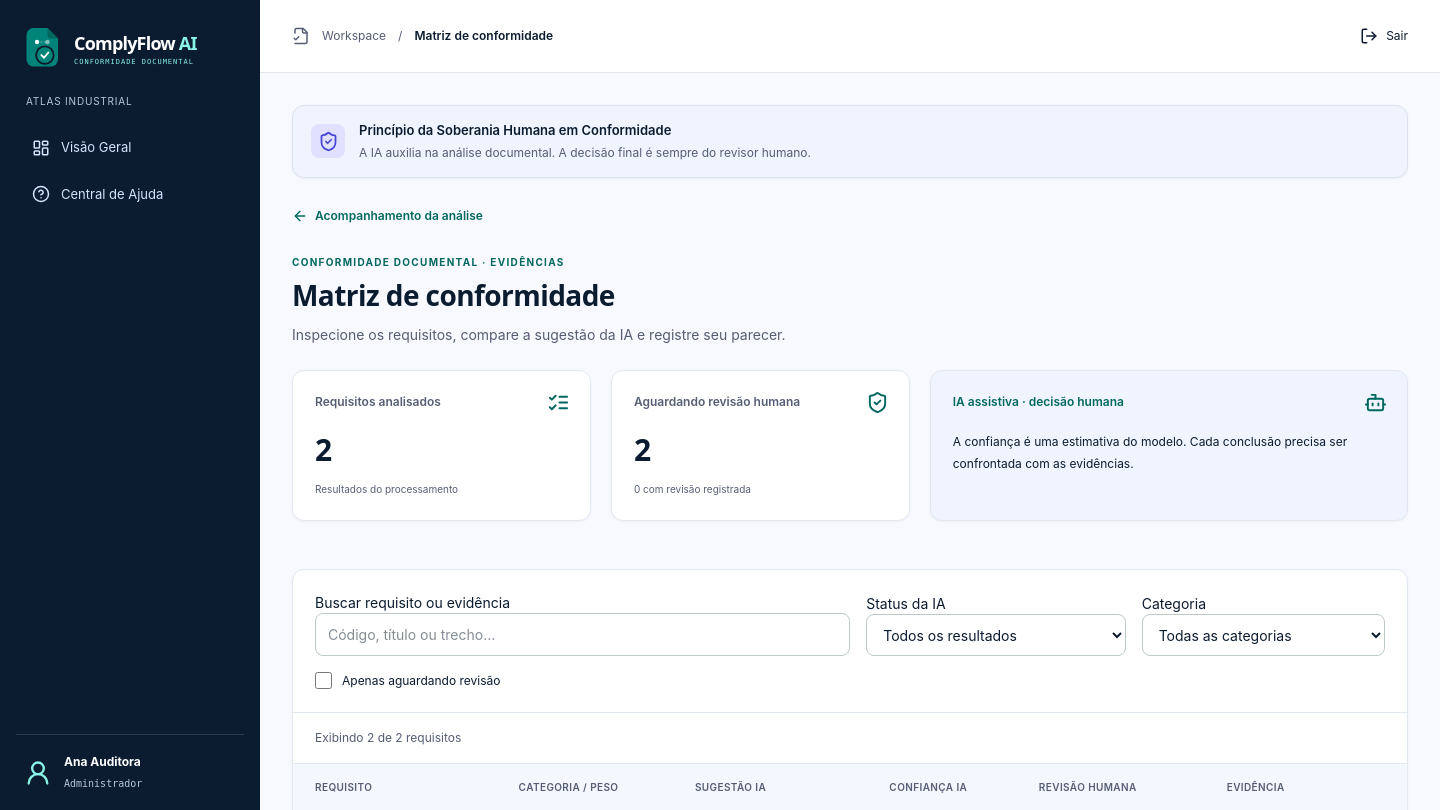
it: Compliance matrix › filters AI statuses and text, and shows missing evidence without inventing citations
This screenshot has width=1440, height=810.
Select "Não conforme" in the dropdown labelled "Status da IA" at (996, 635), box [866,614,1126,656]
(page scrolled)
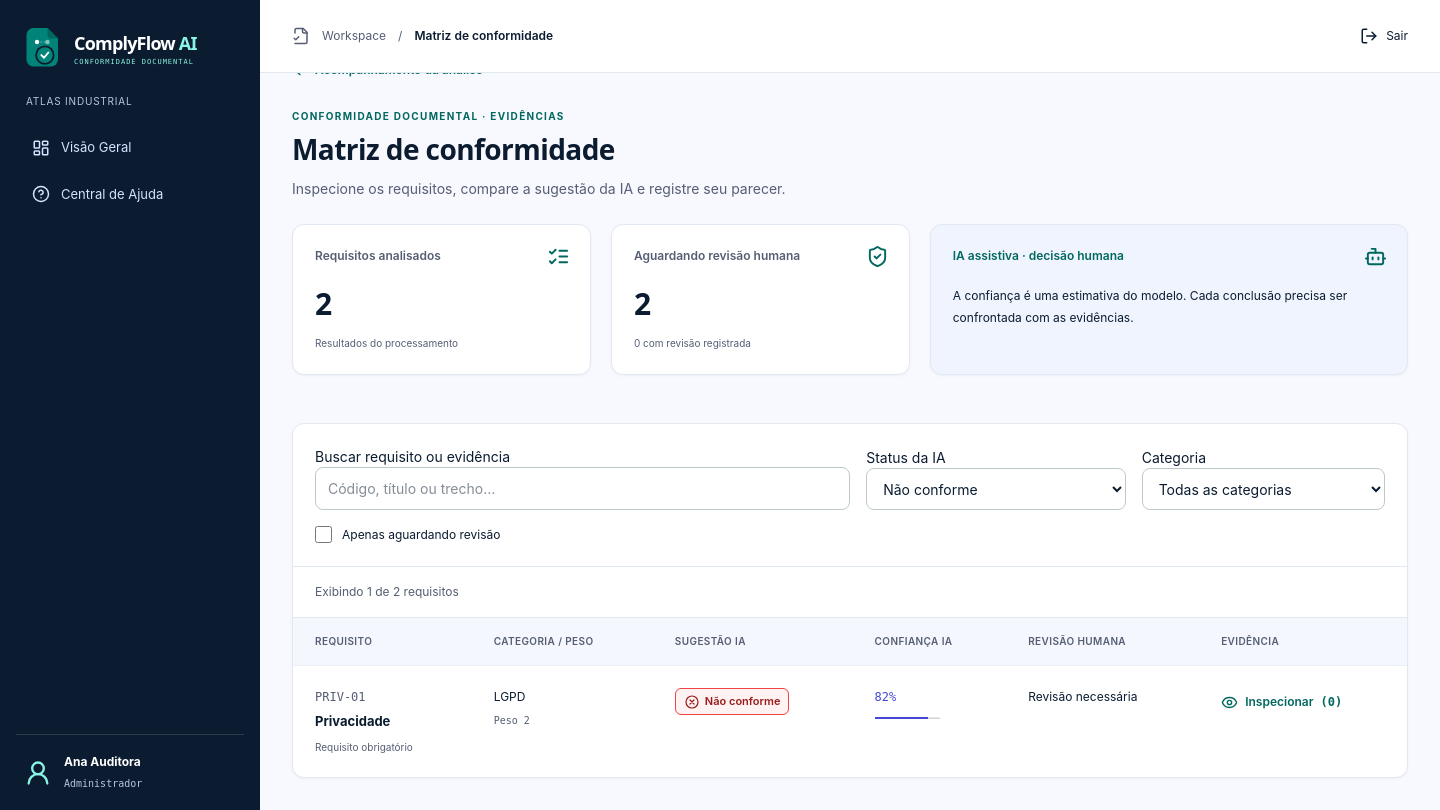
Click the button with aria-label "inspecionar PRIV-01" at (1282, 702), box [1221,688,1342,716]
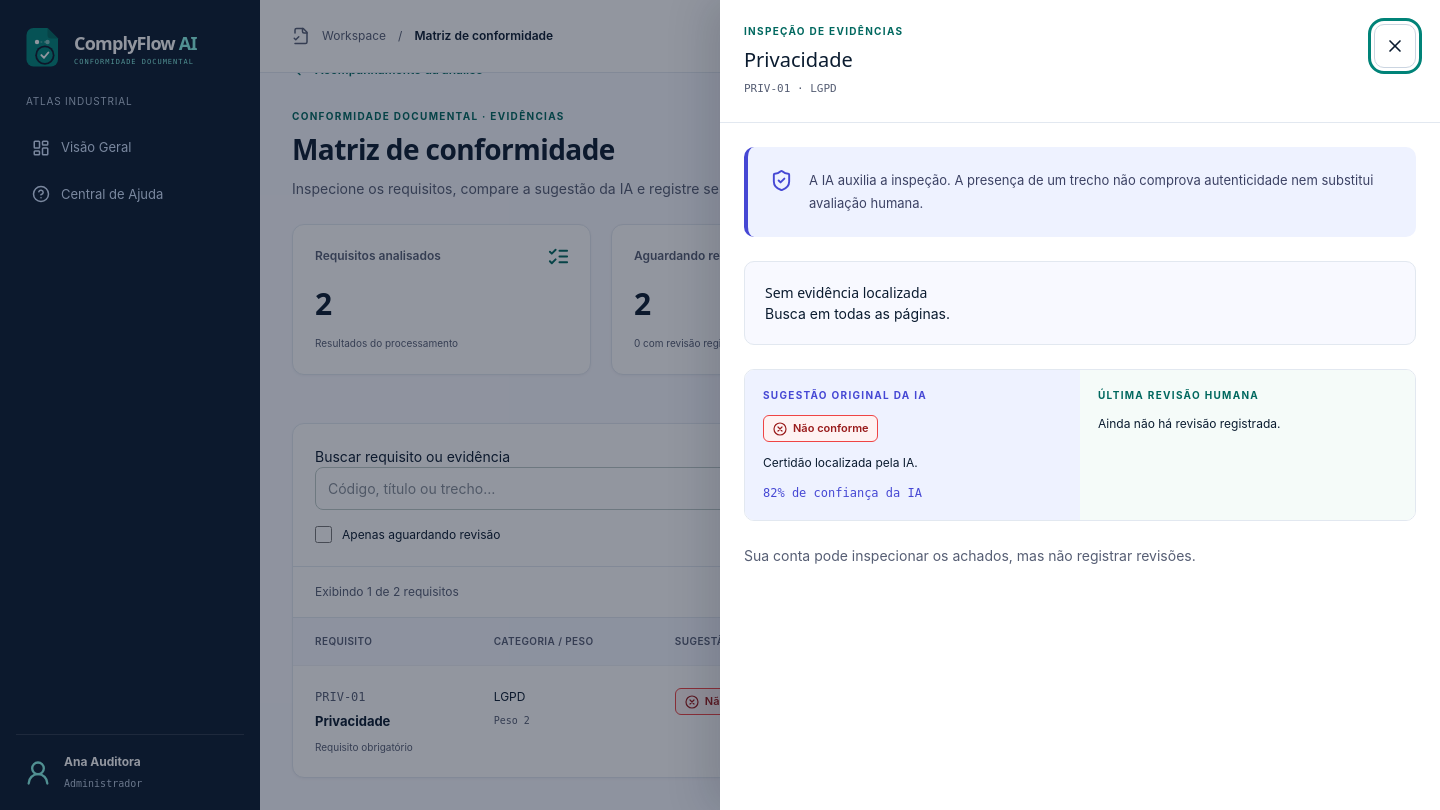
Result: the dialog shows "Busca em todas as páginas." at [765,305,950,322]
Press Escape in the dialog, box [720,0,1439,809]
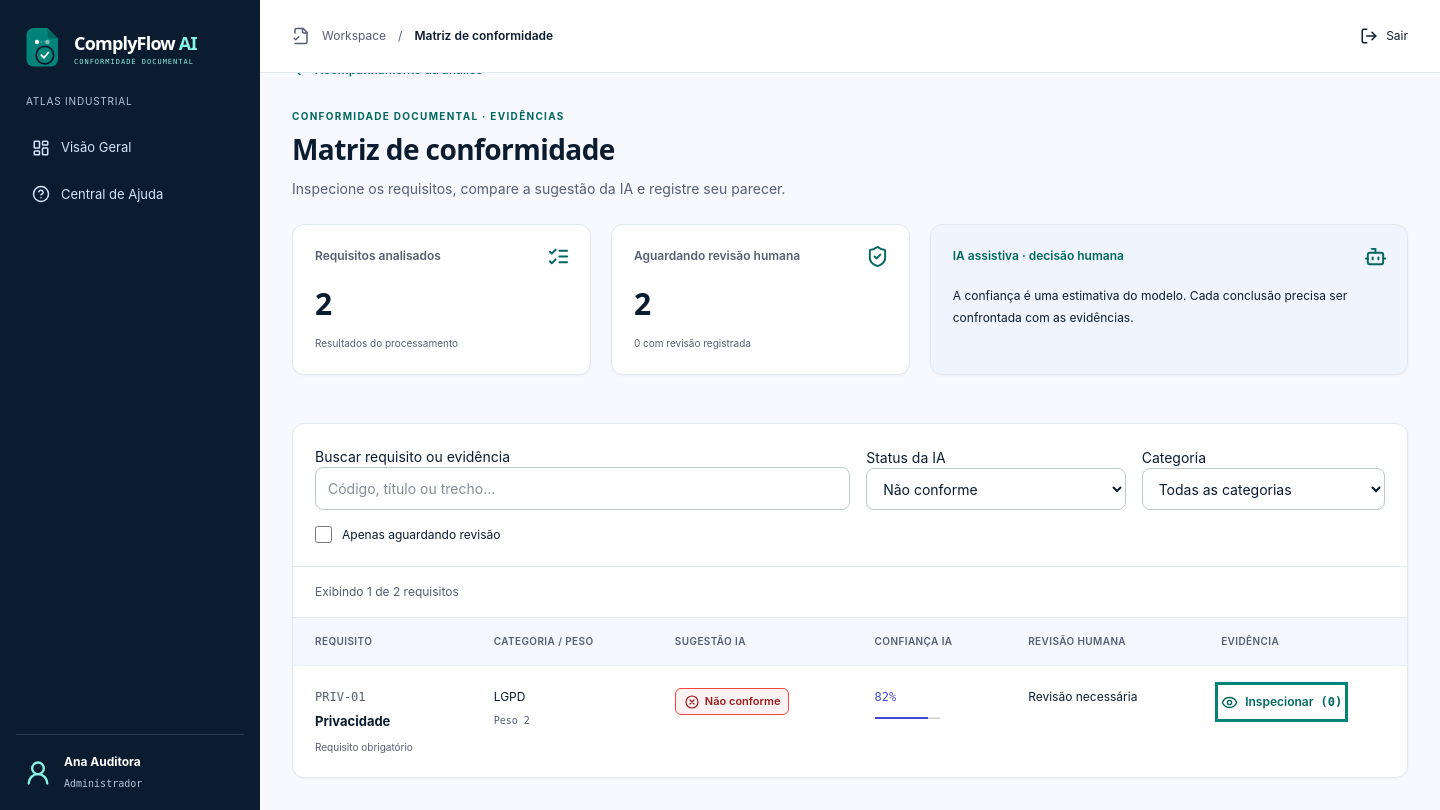
Type "inexistente" into the search field labelled "Buscar requisito ou evidência" at (583, 489), box [315,467,850,510]
(page scrolled)
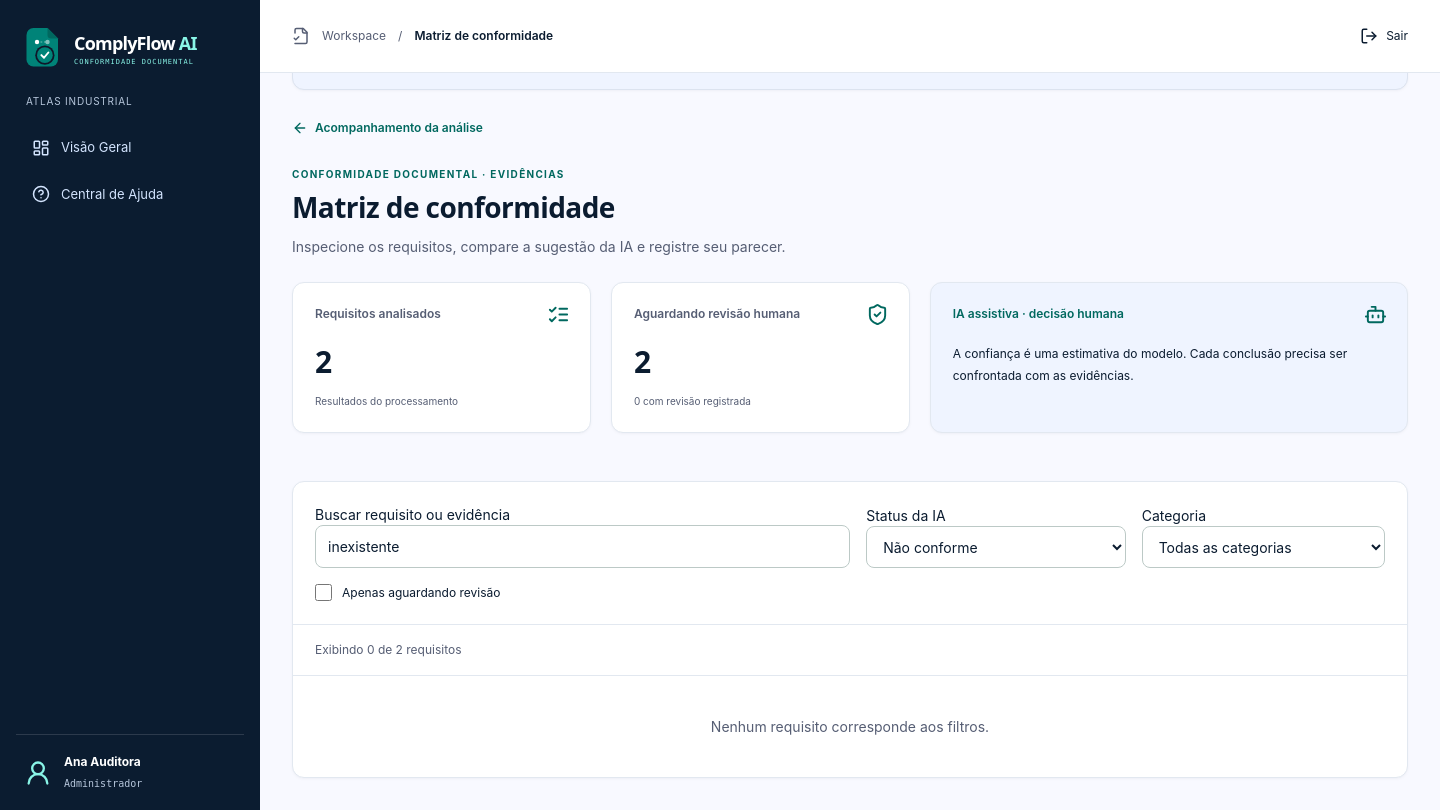
Result: the text "Nenhum requisito corresponde aos filtros." is shown at [711,718,989,735]
